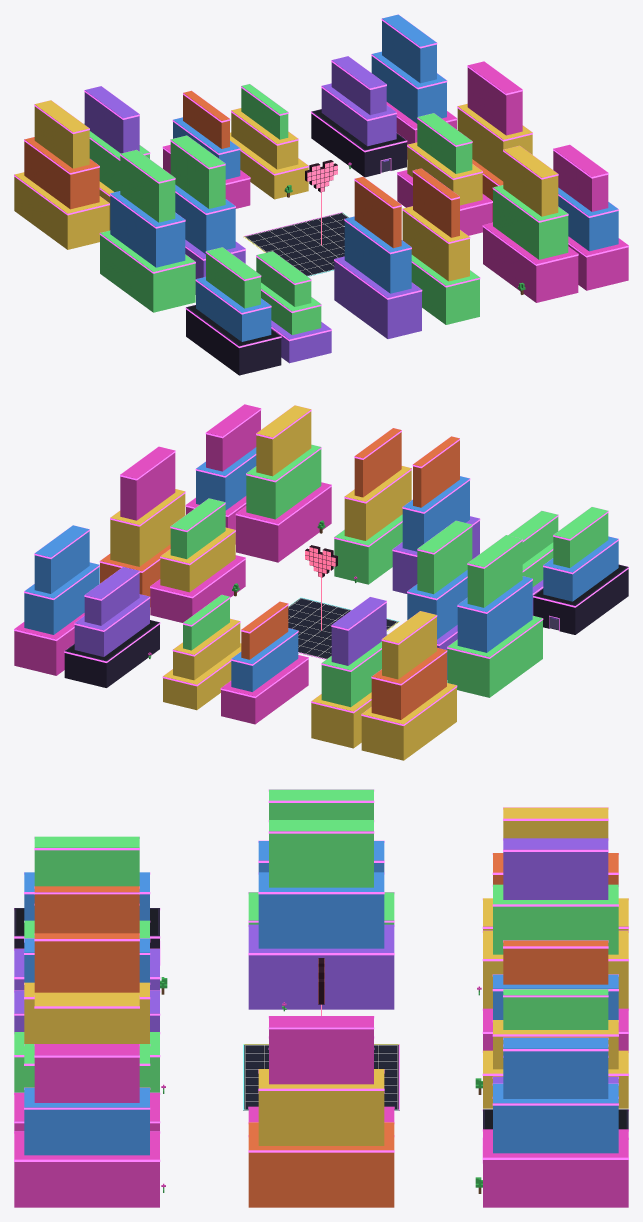
3 renders of one model, top to bottom at view 1: azimuth 30°, elevation 25°; view 2: azimuth 150°, elevation 25°; view 3: azimuth 270°, elevation 25°, orthographic. The views are drawn at different scales.
Visible parts, largest first — view 1: district_city_pixel.lod1; view 2: district_city_pixel.lod1; view 3: district_city_pixel.lod1.
Part boxes in pixels (x1=…): district_city_pixel.lod1: x1=14, y1=14, x2=628, y2=375; district_city_pixel.lod1: x1=14, y1=404, x2=628, y2=760; district_city_pixel.lod1: x1=14, y1=789, x2=628, y2=1207.
Bounding box in the file's own units: 97.1 × 29.96 × 97.1.
